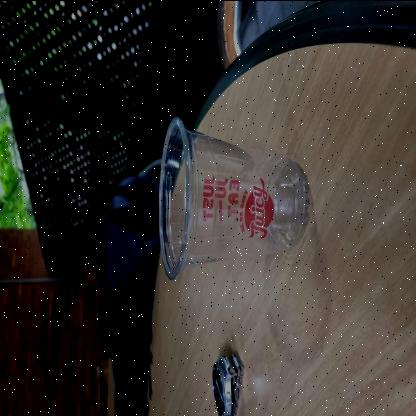Others: (156, 108, 312, 286)
